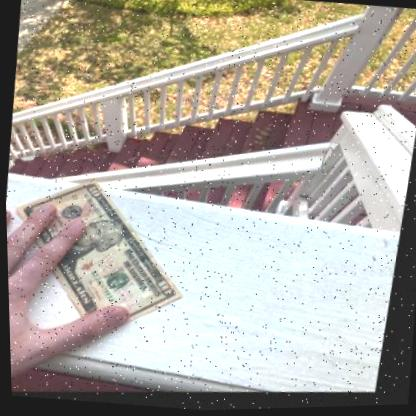ten-front: (17, 182, 185, 341)
